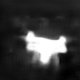plane: (17, 29, 69, 69)
